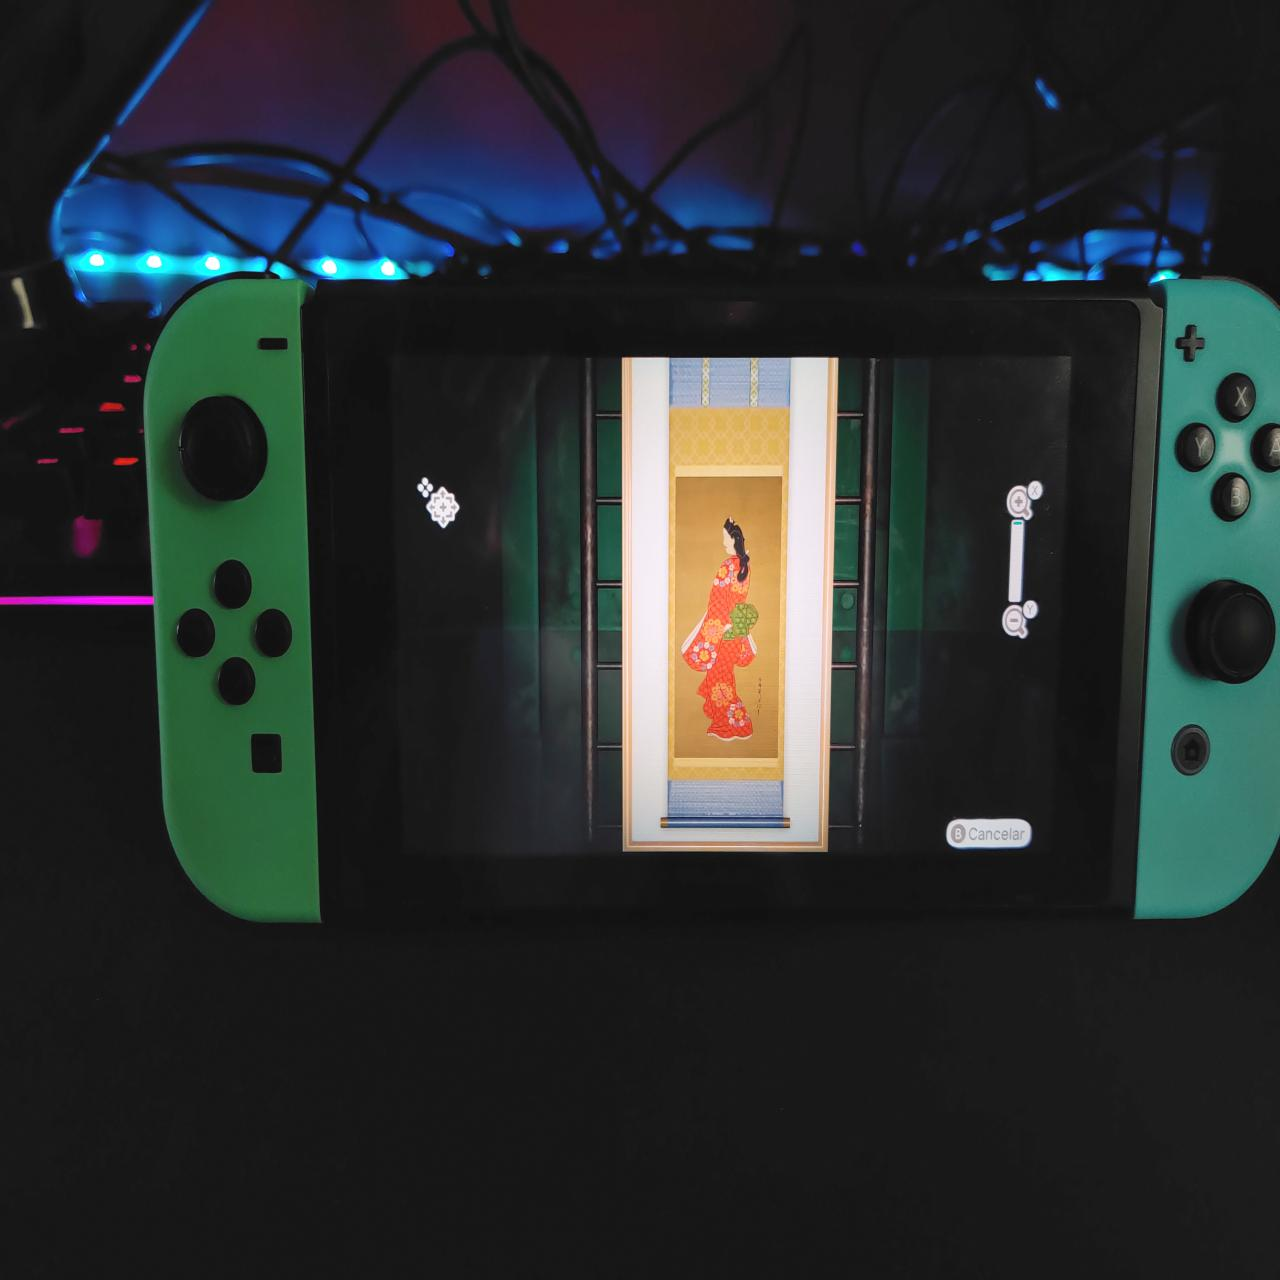MikaeriFake: (673, 465, 782, 765)
